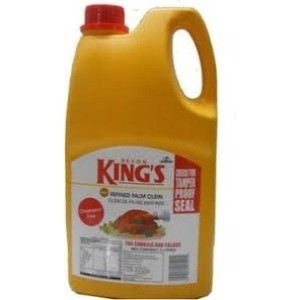vegetable oil_brain food: (69, 50, 204, 264)
